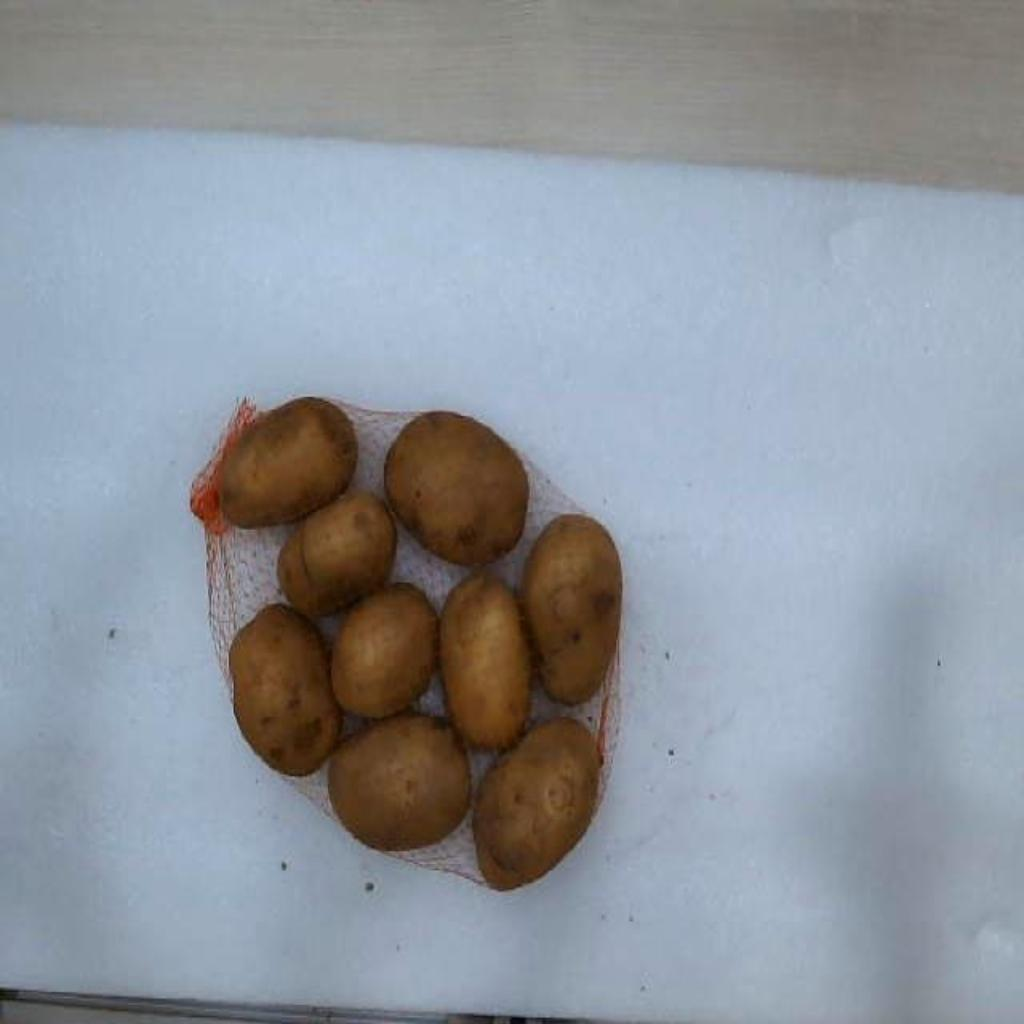potato: (386, 411, 528, 564), (474, 717, 600, 889), (330, 712, 470, 849), (230, 605, 342, 775), (522, 515, 622, 703), (220, 397, 358, 527), (440, 573, 530, 749), (332, 581, 436, 719), (280, 499, 398, 615)
